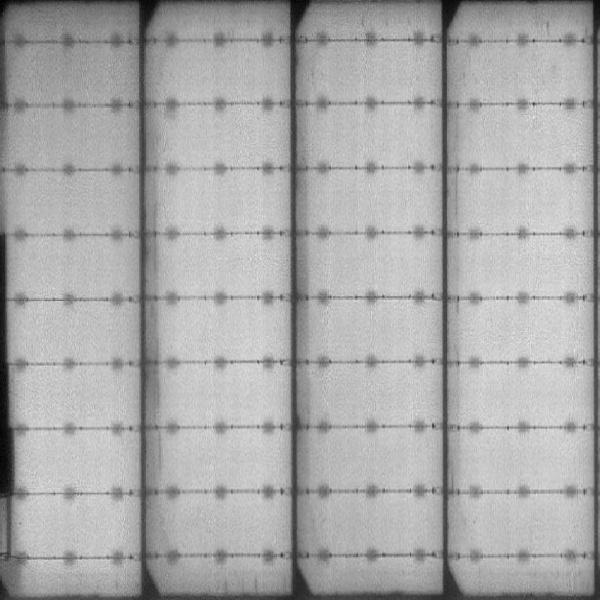black_border: (1, 230, 14, 562)
